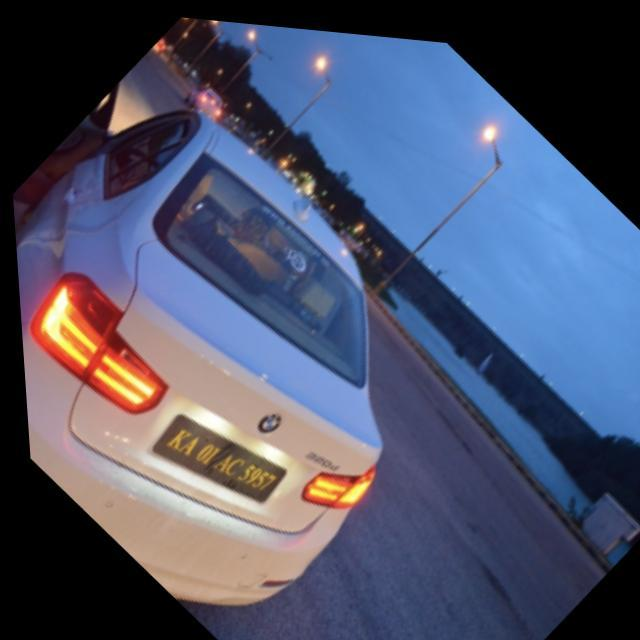license_plate: (128, 370, 300, 544)
